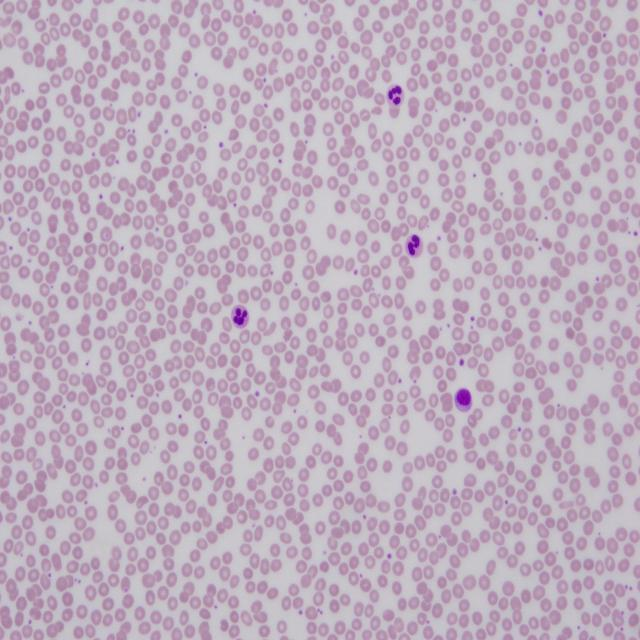cell: (231, 304, 250, 328), (406, 234, 422, 257), (388, 84, 402, 105)
